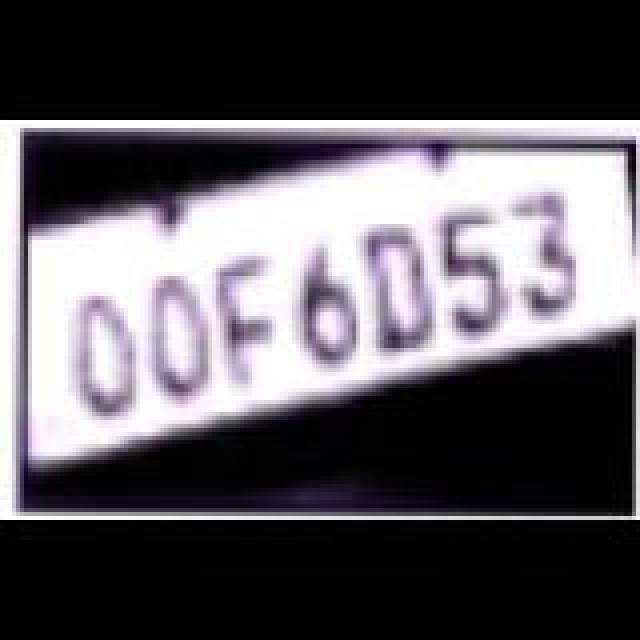3: (506, 190, 590, 322)
5: (428, 208, 516, 344)
6: (288, 242, 368, 374)
D: (360, 226, 448, 358)
F: (210, 254, 294, 394)
O: (60, 294, 148, 426), (140, 274, 220, 406)
